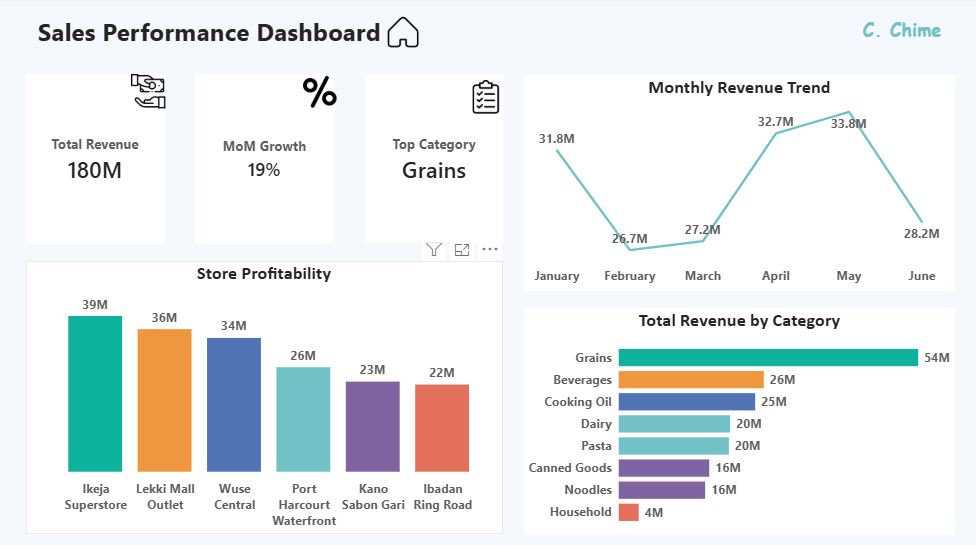

What the dashboard file says about the page in this screenshot:
{"tool":"powerbi","page":{"name":"Page 1","canvas":[1280,720],"ordinal":0},"visuals":[{"type":"cardVisual","fields":{"Data":["Measures table.Top Category"]},"box":[479,100.4,181,221],"z":0,"group":"g4"},{"type":"cardVisual","fields":{"Data":["Measures table.MoM Growth %"]},"box":[256,100.5,182.4,221.6],"z":0,"group":"g3"},{"type":"lineChart","title":"Monthly Revenue Trend","fields":{"Y":["Measures table.Total Revenue"],"Category":["Dim_Date.Date.Variation.Date Hierarchy.Month"]},"box":[687.3,102.1,564.2,282.8],"z":0},{"type":"image","box":[616.7,98.4,44,44],"z":1000,"group":"g4"},{"type":"barChart","title":"Total Revenue by Category","fields":{"Category":["Dim_Product.Category"],"Y":["Measures table.Total Revenue"]},"box":[687.3,407.1,564.2,295.9],"z":1000},{"type":"cardVisual","fields":{"Data":["Measures table.Total Revenue"]},"box":[35.3,100.8,181.7,221.6],"z":2000,"group":"g1"},{"type":"columnChart","title":"Store Profitability","fields":{"Category":["Dim_Store.StoreName"],"Y":["Measures table.Total Revenue"]},"box":[35.8,345.5,623.5,357.8],"z":2000},{"type":"group","id":"g1","title":"Group 1","box":[35.3,100.8,182,221.2],"z":4000},{"type":"group","id":"g2","title":"Group 4","box":[45.4,16.5,504.7,57.8],"z":5000},{"type":"group","id":"g3","title":"Group 3","box":[256,100.5,181,221.6],"z":5000,"group":"g5"},{"type":"textbox","box":[45.4,16.5,463.8,57.8],"z":6000,"group":"g2"},{"type":"textbox","box":[1125.8,19.6,125.7,49.7],"z":6000},{"type":"group","id":"g4","title":"Group 2","box":[479,98.4,181.7,223],"z":7000},{"type":"image","box":[172.8,101.2,44.6,44.6],"z":7003,"group":"g1"},{"type":"image","box":[499.7,20.1,50.4,50.4],"z":7006,"group":"g2"},{"type":"group","id":"g5","title":"Group 5","box":[256,100.5,181.7,221.6],"z":8000},{"type":"image","box":[393.6,101.8,44,44],"z":8500}]}

Visuals, with their boxes in screenshot pixels (x1, y1, x2, y2), scaled from the page's 1280x720 canvas onto the 976x545 screenshot:
cardVisual - Measures table.Top Category: detection(365, 76, 503, 243)
cardVisual - Measures table.MoM Growth %: detection(195, 76, 334, 244)
"Monthly Revenue Trend" lineChart: detection(524, 77, 954, 291)
image: detection(470, 74, 504, 108)
"Total Revenue by Category" barChart: detection(524, 308, 954, 532)
cardVisual - Measures table.Total Revenue: detection(27, 76, 165, 244)
"Store Profitability" columnChart: detection(27, 262, 503, 532)
"Group 1" group: detection(27, 76, 166, 244)
"Group 4" group: detection(35, 12, 419, 56)
"Group 3" group: detection(195, 76, 333, 244)
textbox: detection(35, 12, 388, 56)
textbox: detection(858, 15, 954, 52)
"Group 2" group: detection(365, 74, 504, 243)
image: detection(132, 77, 166, 110)
image: detection(381, 15, 419, 53)
"Group 5" group: detection(195, 76, 334, 244)
image: detection(300, 77, 334, 110)
